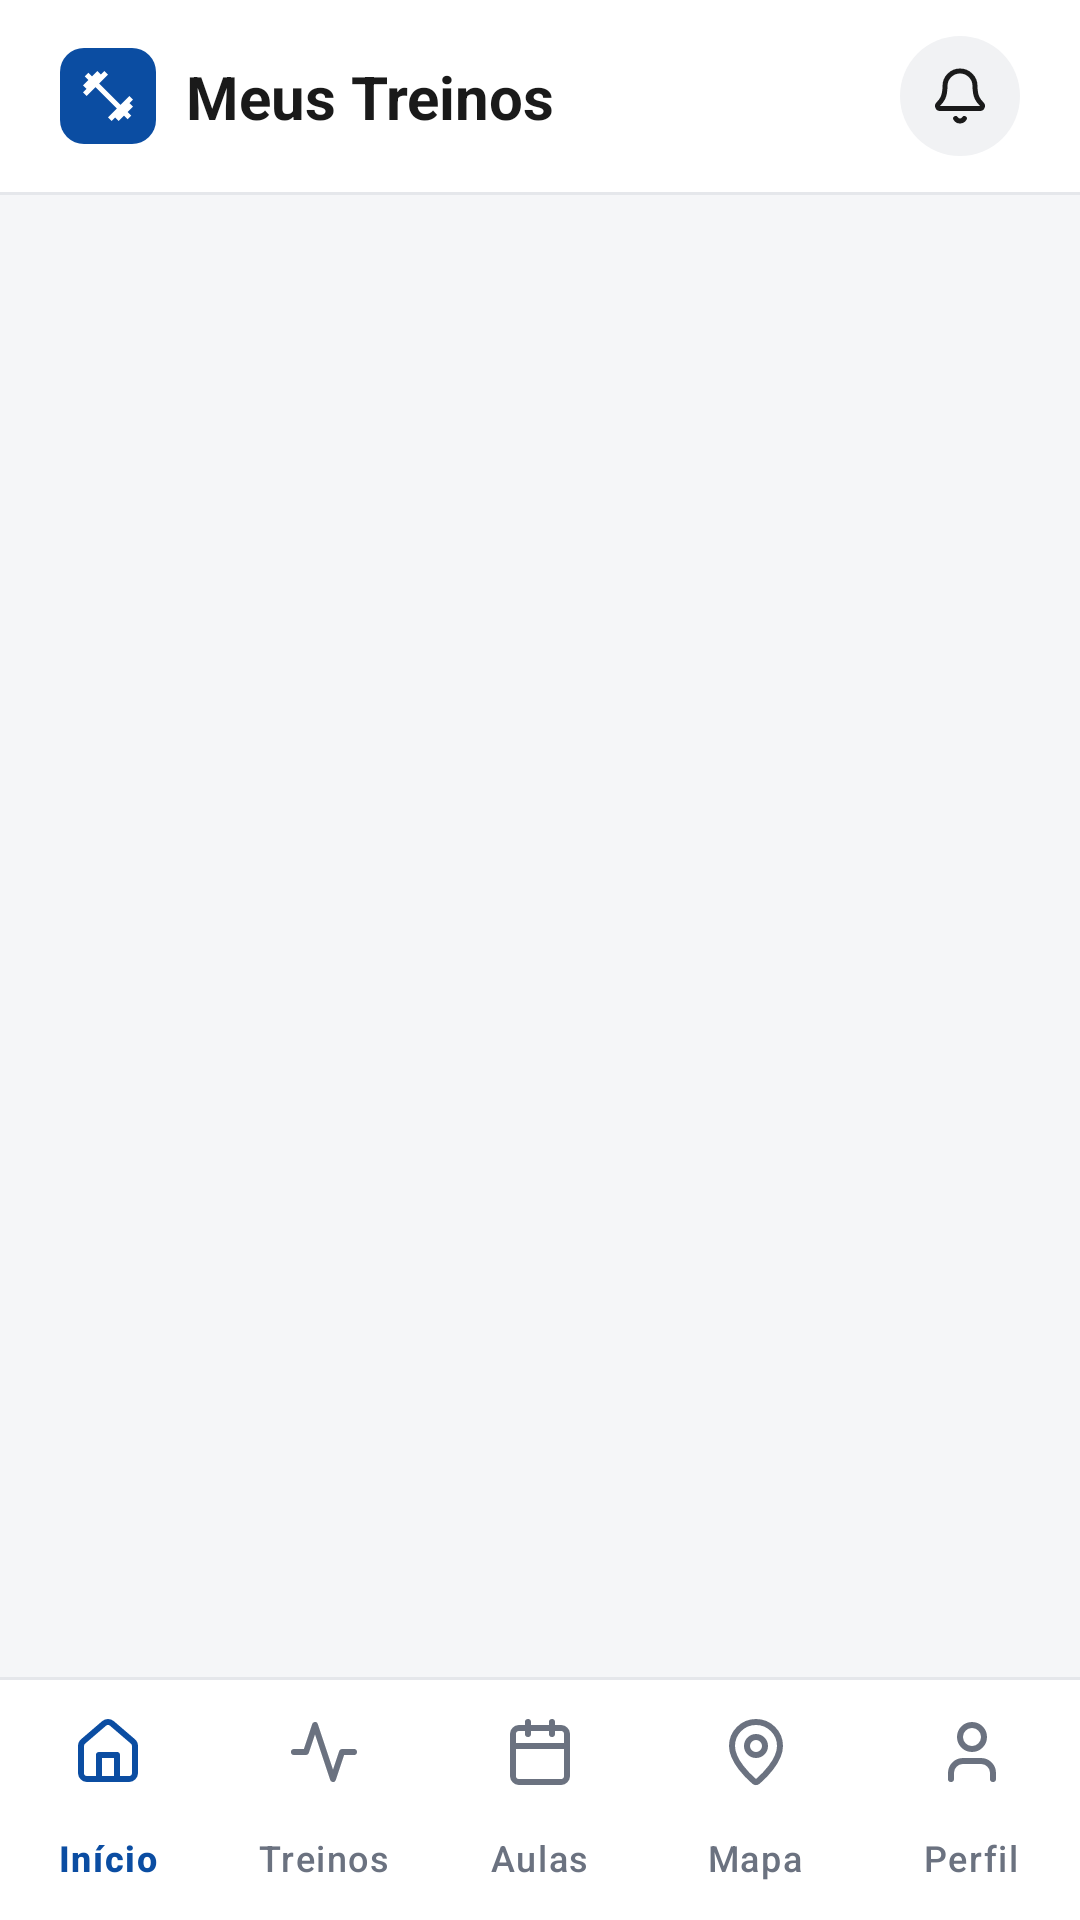

Icons on this 1080 x 1920 Android screen, each with its box as (x1, y1, x2, y2):
Notificações: (900, 36, 1020, 156)
